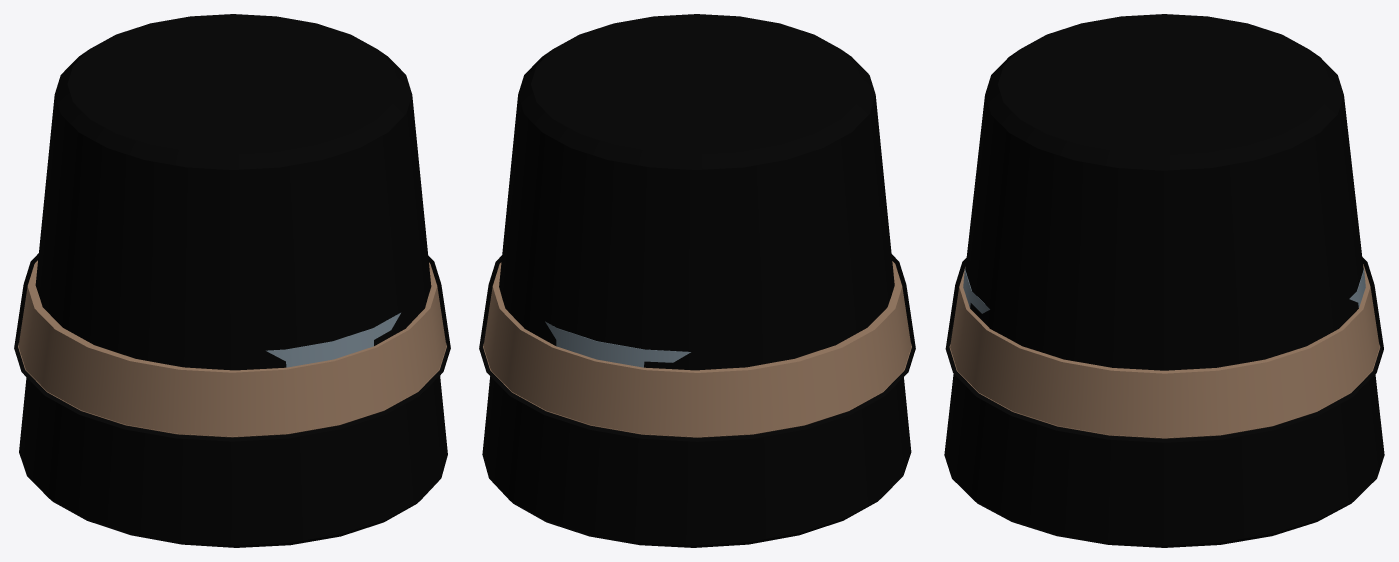
The model's file is Shapka2-4L.fbx.
3 renders of one model, left to right at view 1: azimuth 30°, elevation 25°; view 2: azimuth 150°, elevation 25°; view 3: azimuth 270°, elevation 25°, orthographic.
Visible parts, largest first — view 1: Circle.001; view 2: Circle.001; view 3: Circle.001.
Boxes of the visible parts, x1,y1,x2,y2 form: Circle.001: [14, 14, 450, 547]; Circle.001: [479, 14, 915, 547]; Circle.001: [944, 14, 1384, 547].
Bounding box in the file's own units: 57.9 × 54.64 × 58.13.
